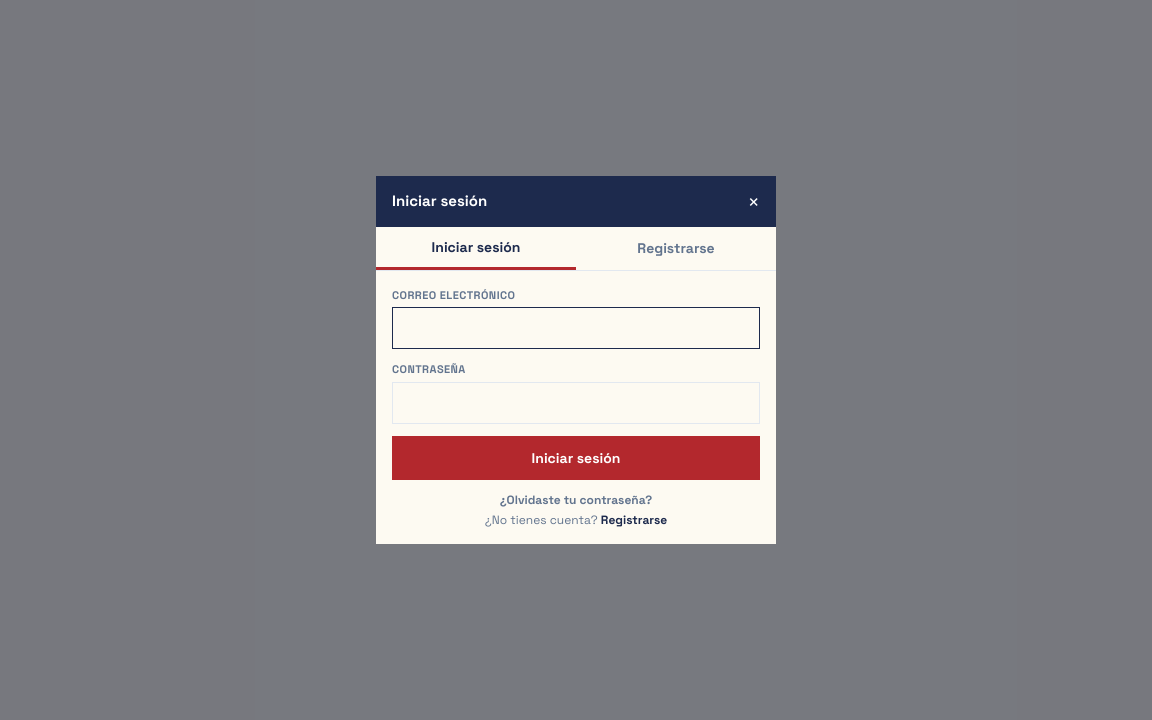
Scenario: Login page (AuthModal fallback) › shows an invalid-credentials error when signIn reports CredentialsSignin
This screenshot has width=1152, height=720.
Type "coach@example.com" into the field labelled "Correo electrónico" at {"x": 576, "y": 328}, box [392, 307, 760, 349]
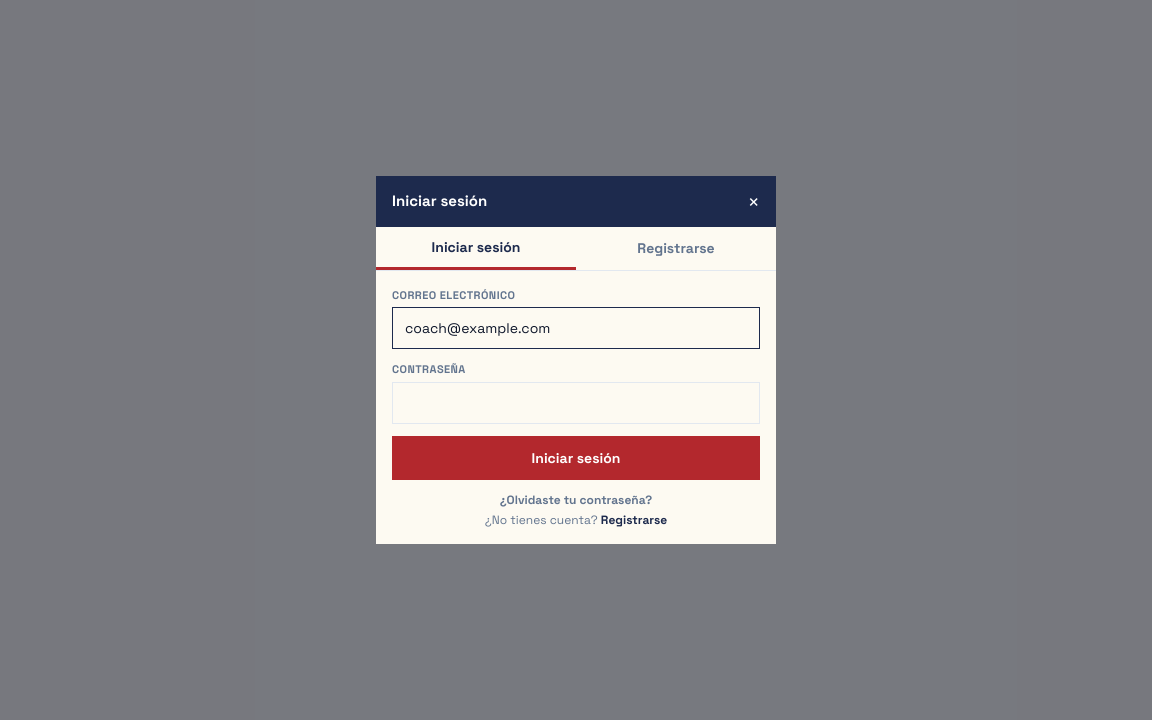
Type "wrong-password" into the password field labelled "Contraseña" at {"x": 576, "y": 403}, box [392, 382, 760, 424]
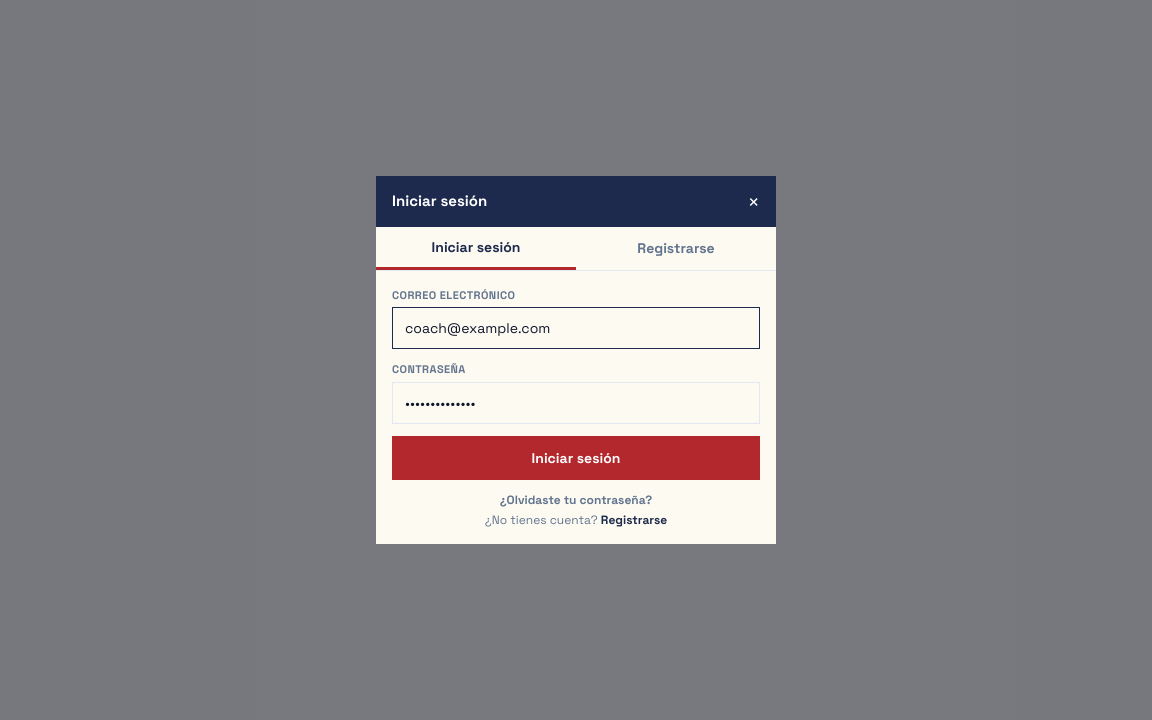
Click the button "Iniciar sesión" below "Correo electrónico" at {"x": 576, "y": 458}, box [392, 436, 760, 480]
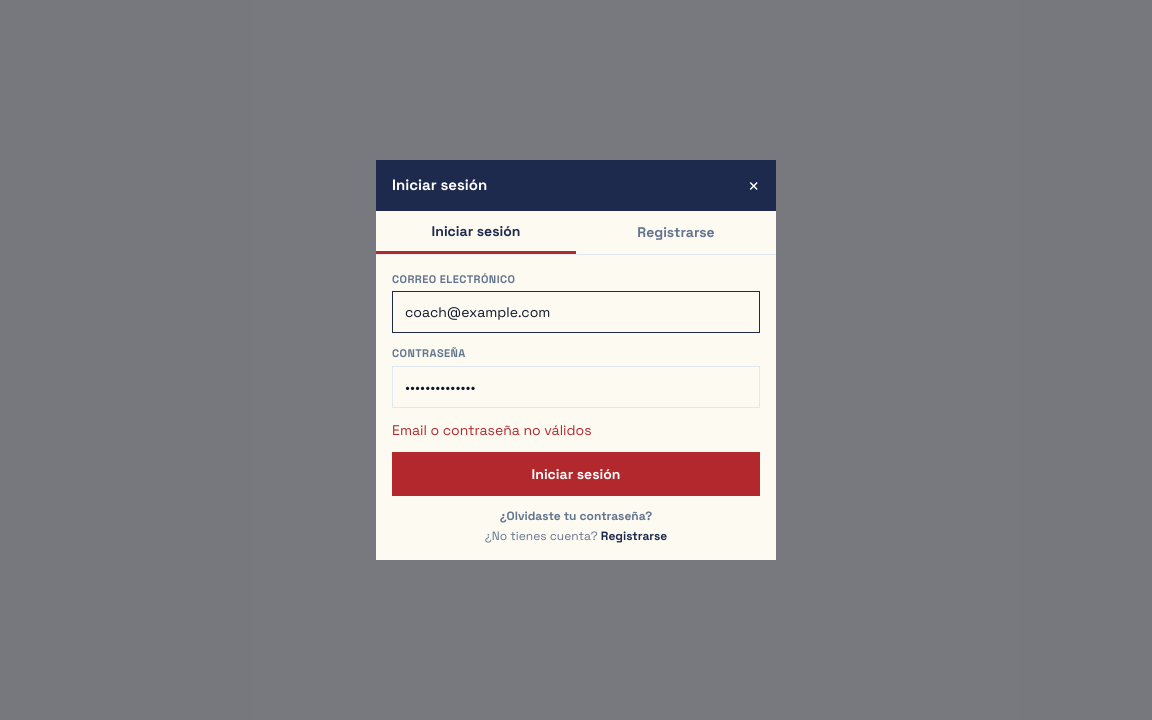
Expected: the text "Email o contraseña no válidos" is shown, [392, 421, 592, 439]
